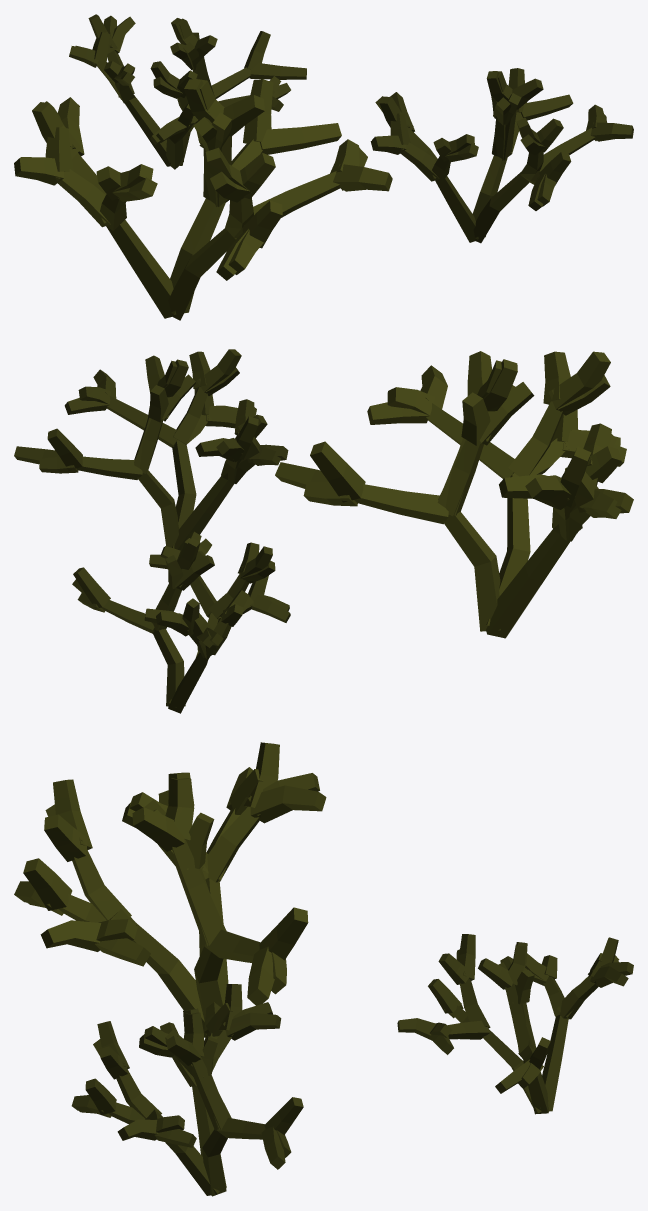
Rendered from SM__Savanna__Bush__Dead__1.fbx.
The picture shows the model from 3 angles, top to bottom: view 1: azimuth 30°, elevation 25°; view 2: azimuth 150°, elevation 25°; view 3: azimuth 270°, elevation 25°; orthographic projection. The views are drawn at different scales.
Parts seen in each view (by area): view 1: normal23; view 2: normal23; view 3: normal23.
Part boxes in pixels (x1,y1,x2,y2): normal23: (14,14,633,320); normal23: (14,349,633,713); normal23: (14,742,633,1196).
Bounding box in the file's own units: 2.57 × 1.07 × 2.24.
